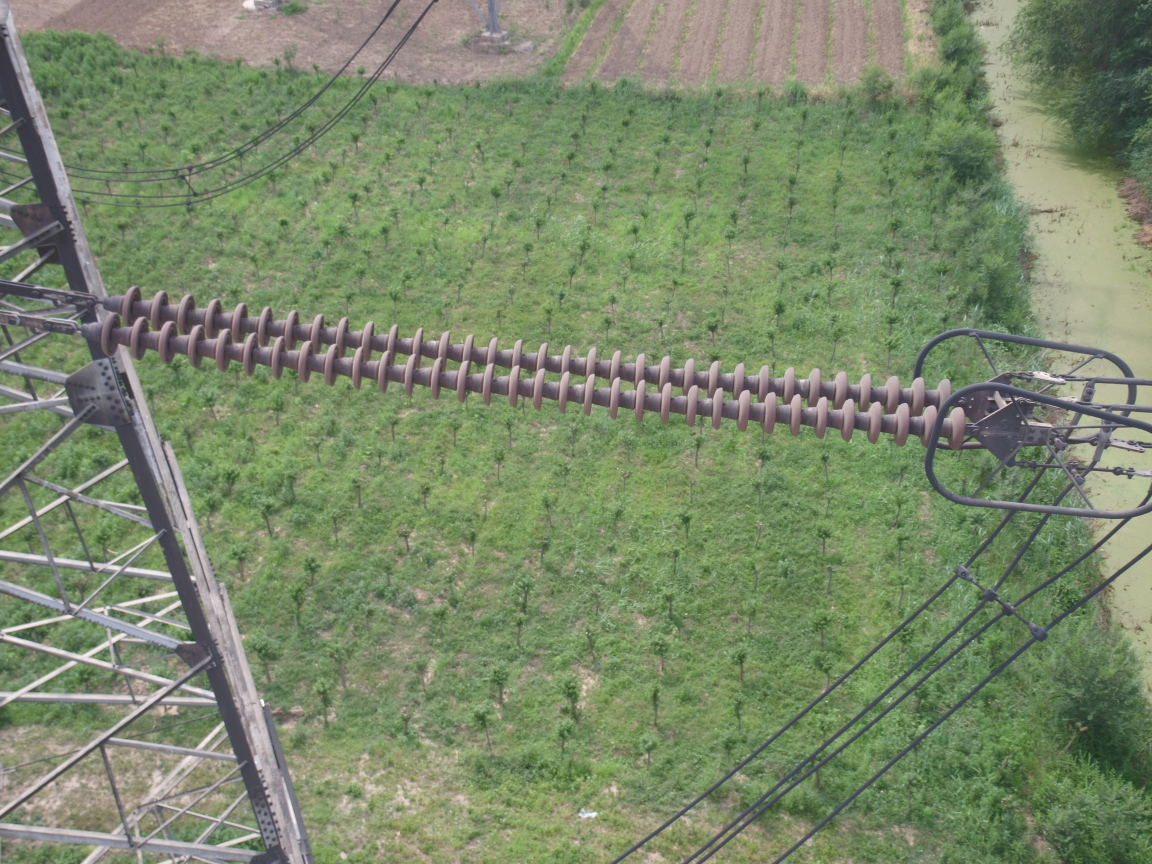insulator: (59, 276, 994, 459)
